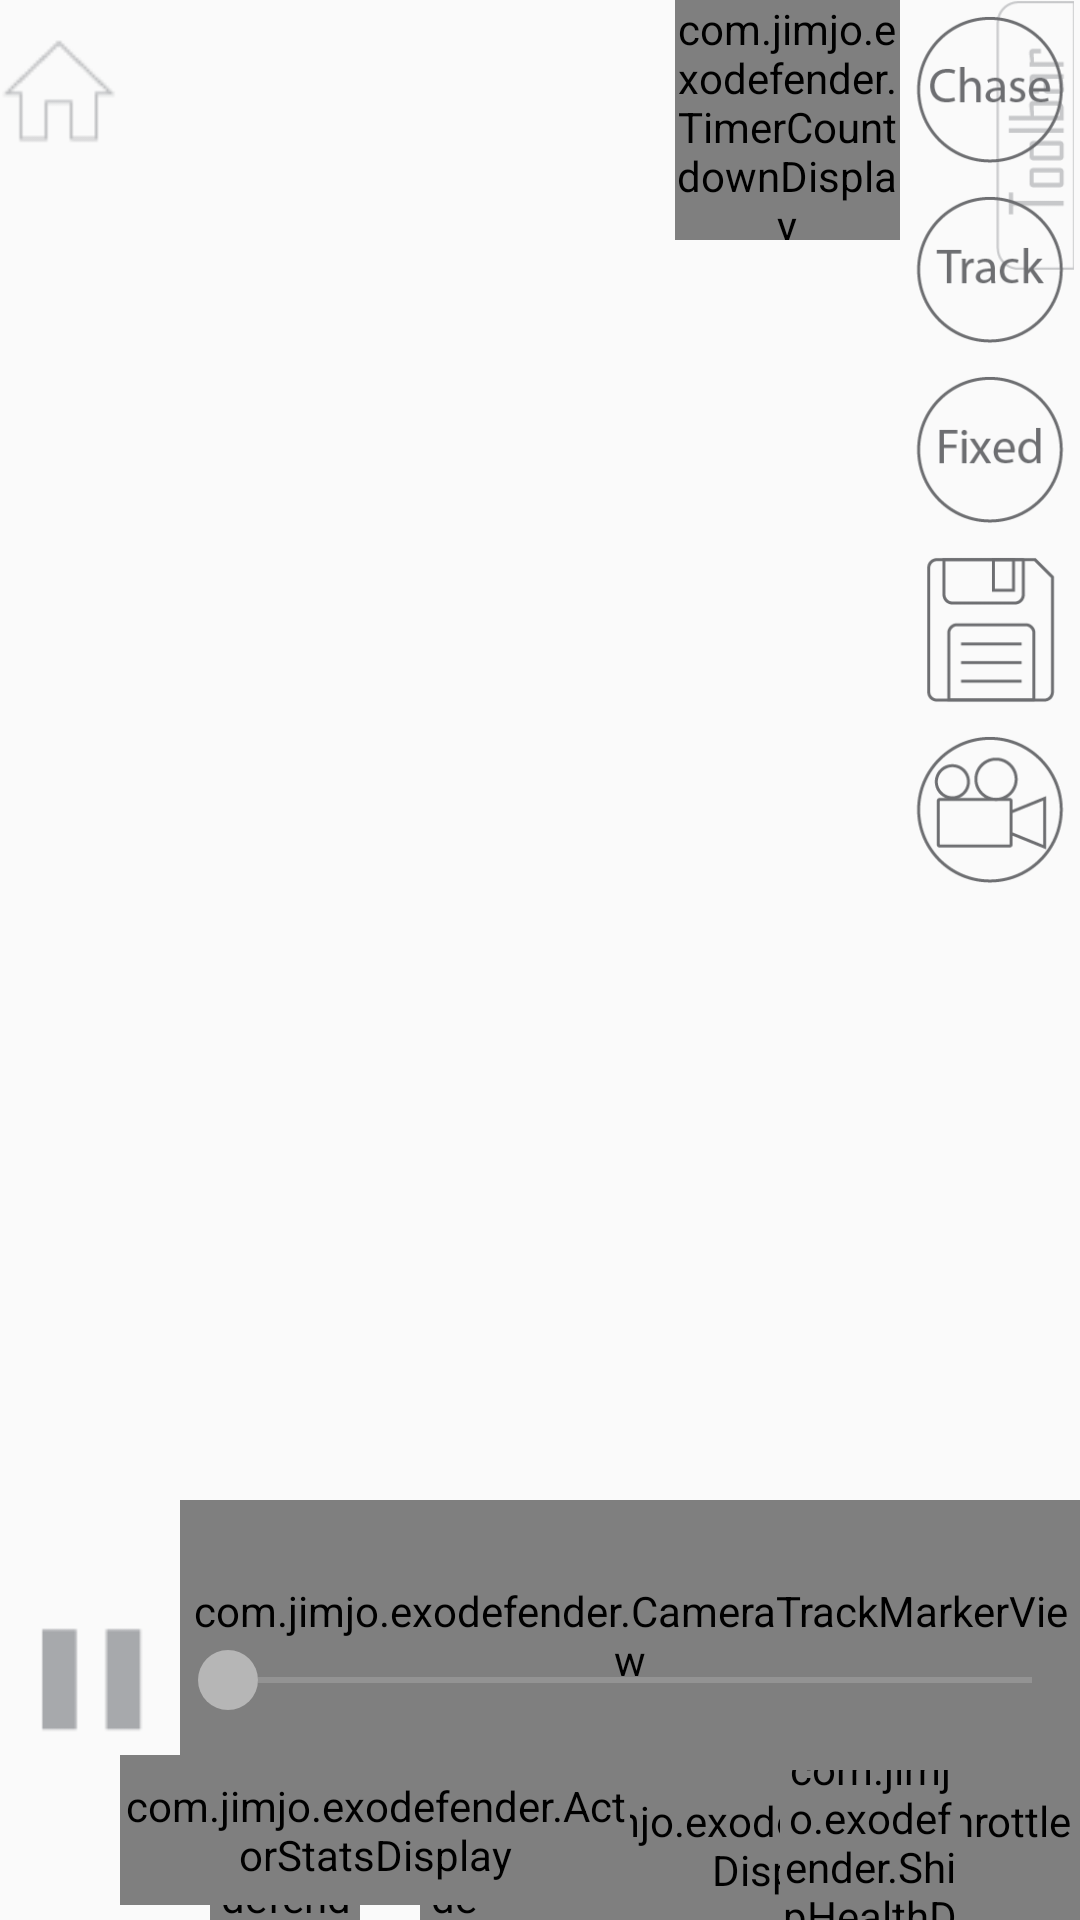

Point at icon controls on the screen. Image size 1080x1920, points as (x,y).
home: (59,91)
map pause: (90,1680)
save file off: (991,630)
